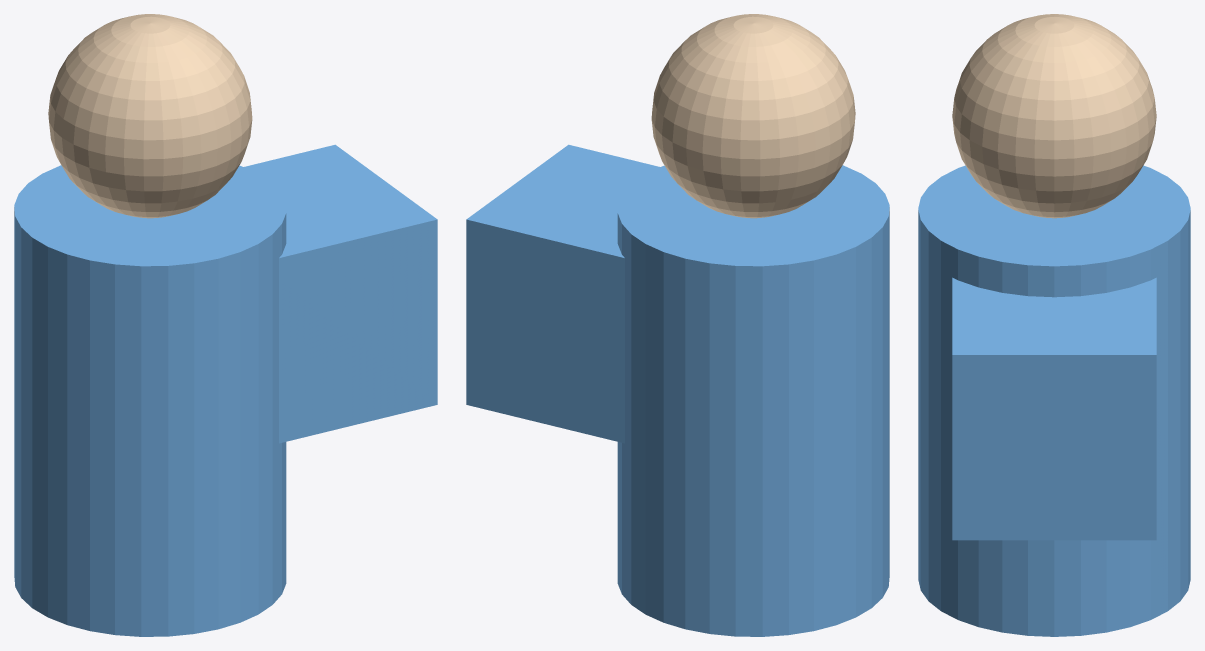
File: player.fbx
3 views of the same model, side by side, from view 1: azimuth 30°, elevation 25°; view 2: azimuth 150°, elevation 25°; view 3: azimuth 270°, elevation 25° (orthographic).
Visible parts, largest first — view 1: PlayerBody, PlayerArm, PlayerHead; view 2: PlayerBody, PlayerArm, PlayerHead; view 3: PlayerBody, PlayerArm, PlayerHead.
Part boxes in pixels (x1,y1,x2,y2): PlayerBody: (14, 165, 286, 636); PlayerArm: (244, 144, 437, 443); PlayerHead: (48, 14, 252, 218); PlayerBody: (617, 165, 889, 636); PlayerArm: (466, 144, 659, 443); PlayerHead: (651, 14, 855, 218); PlayerBody: (918, 165, 1190, 636); PlayerArm: (952, 277, 1156, 540); PlayerHead: (952, 14, 1156, 218).
Bounding box in the file's own units: 120 × 80 × 180.
